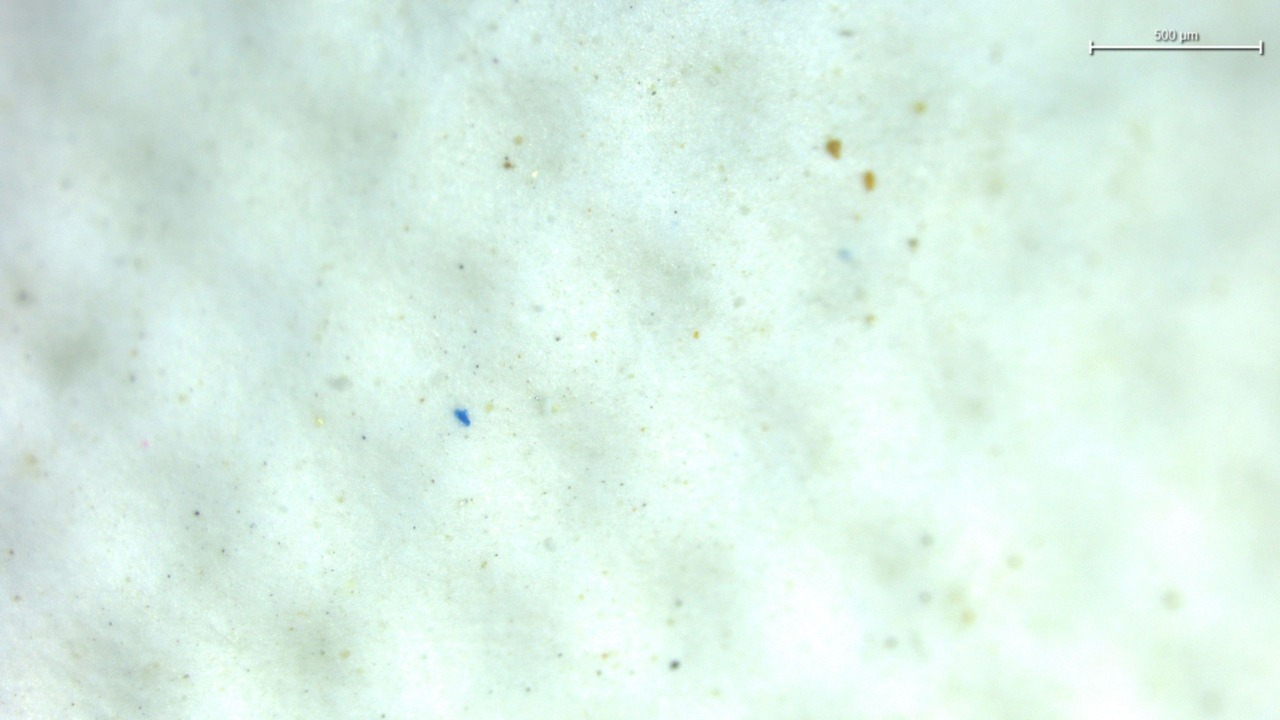microplastic_fragment: (455, 409, 471, 426)
